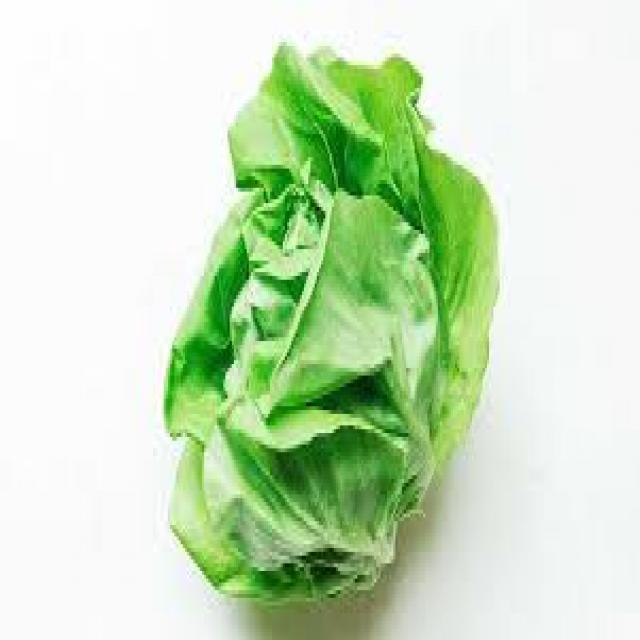Lettuce: (162, 40, 502, 602)
